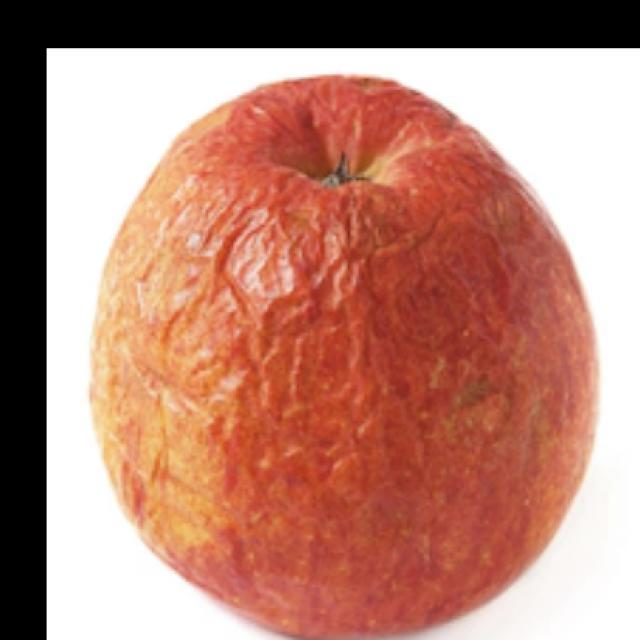Rotten: (125, 85, 608, 640)
